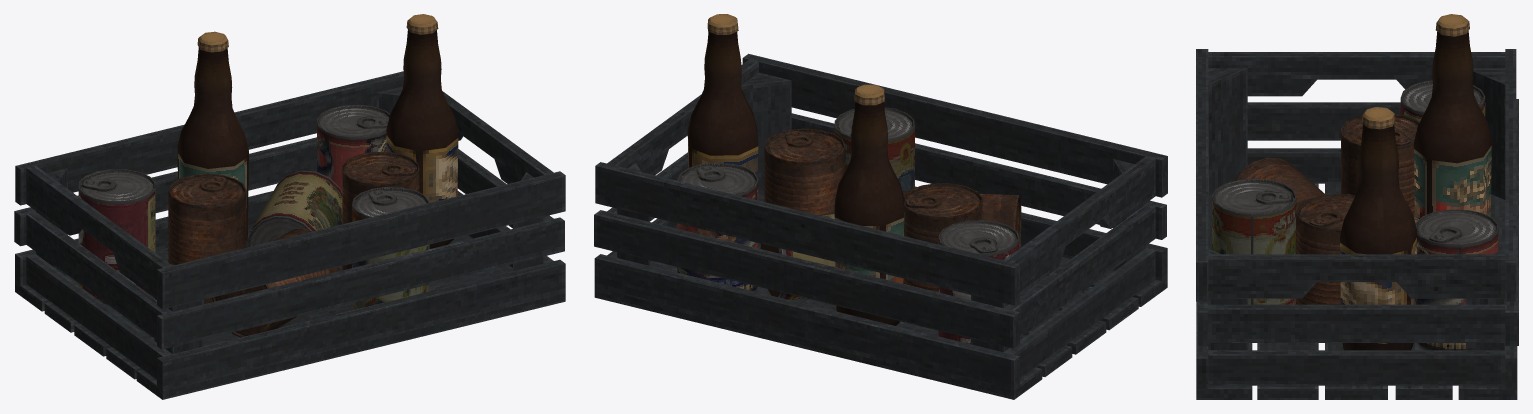
Rendered from supply_crate_1_4.glb.
3 renders of one model, left to right at view 1: azimuth 30°, elevation 25°; view 2: azimuth 150°, elevation 25°; view 3: azimuth 270°, elevation 25°, orthographic. The views are drawn at different scales.
Parts seen in each view (by area): view 1: supply_crate_1_4; view 2: supply_crate_1_4; view 3: supply_crate_1_4.
Part boxes in pixels (box(x1,y1,x2,y2)): supply_crate_1_4: box(14, 14, 565, 399); supply_crate_1_4: box(594, 14, 1167, 399); supply_crate_1_4: box(1196, 14, 1518, 399).
Bounding box in the file's own units: 0.668 × 0.3725 × 0.4262.
Materials: 3 (3 with a texture image).
